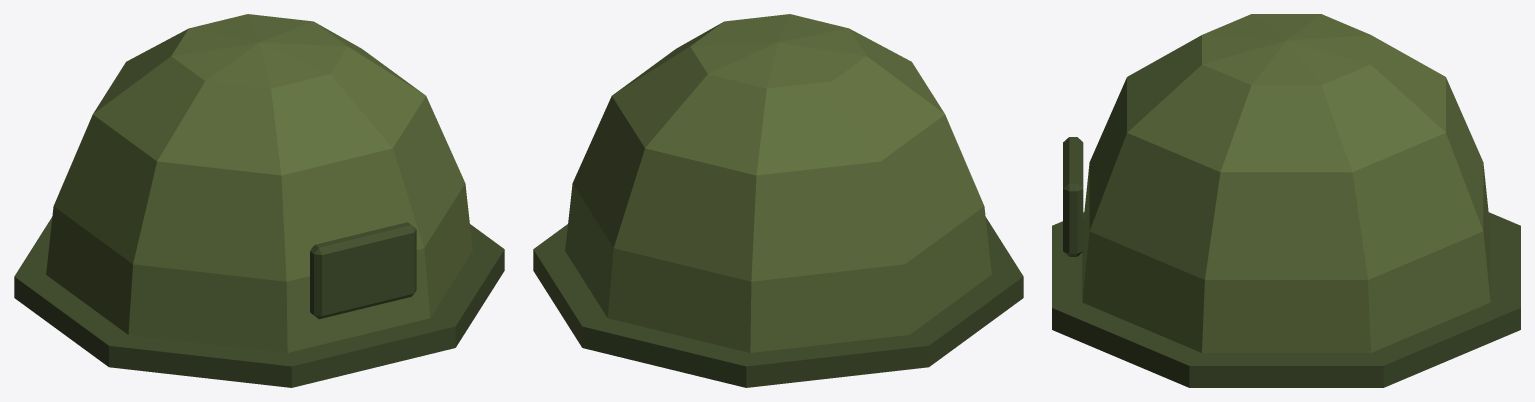
The model's file is ArmyHelmet.fbx.
The picture shows the model from 3 angles, left to right: view 1: azimuth 30°, elevation 25°; view 2: azimuth 150°, elevation 25°; view 3: azimuth 270°, elevation 25°; orthographic projection. The views are drawn at different scales.
Visible parts, largest first — view 1: ArmyHelmet; view 2: ArmyHelmet; view 3: ArmyHelmet.
Boxes of the visible parts, bbox=[...] form: ArmyHelmet: bbox=[14, 14, 504, 387]; ArmyHelmet: bbox=[533, 14, 1023, 387]; ArmyHelmet: bbox=[1052, 14, 1520, 387].
Size of the model in its own units: 2.31 by 1.35 by 2.31.
1 material, 1 textured.
